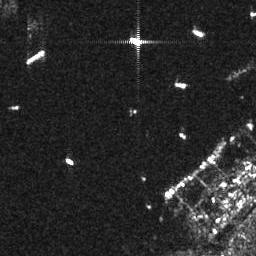ship: (25, 49, 46, 65), (128, 36, 143, 46), (191, 28, 205, 37), (65, 157, 74, 166), (175, 82, 187, 88), (178, 131, 186, 139), (11, 105, 19, 111)
